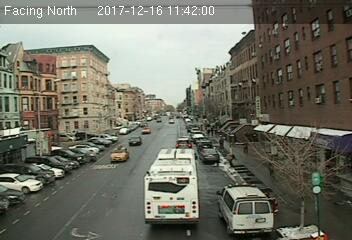bus: (145, 147, 200, 226)
car: (109, 146, 128, 160), (200, 149, 219, 161), (128, 136, 141, 145)
police: (219, 182, 273, 233)
